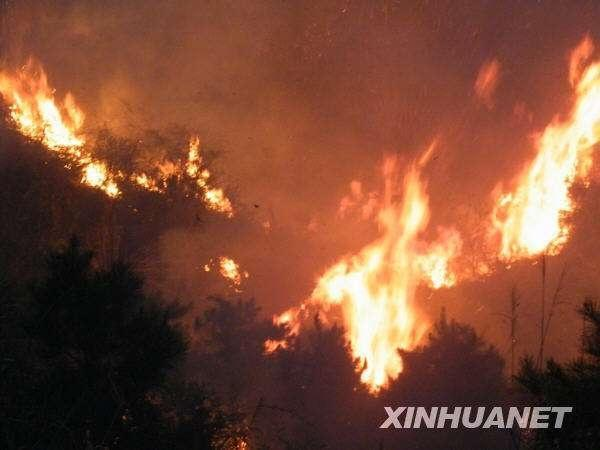fire: (189, 37, 591, 391), (0, 53, 247, 221)
